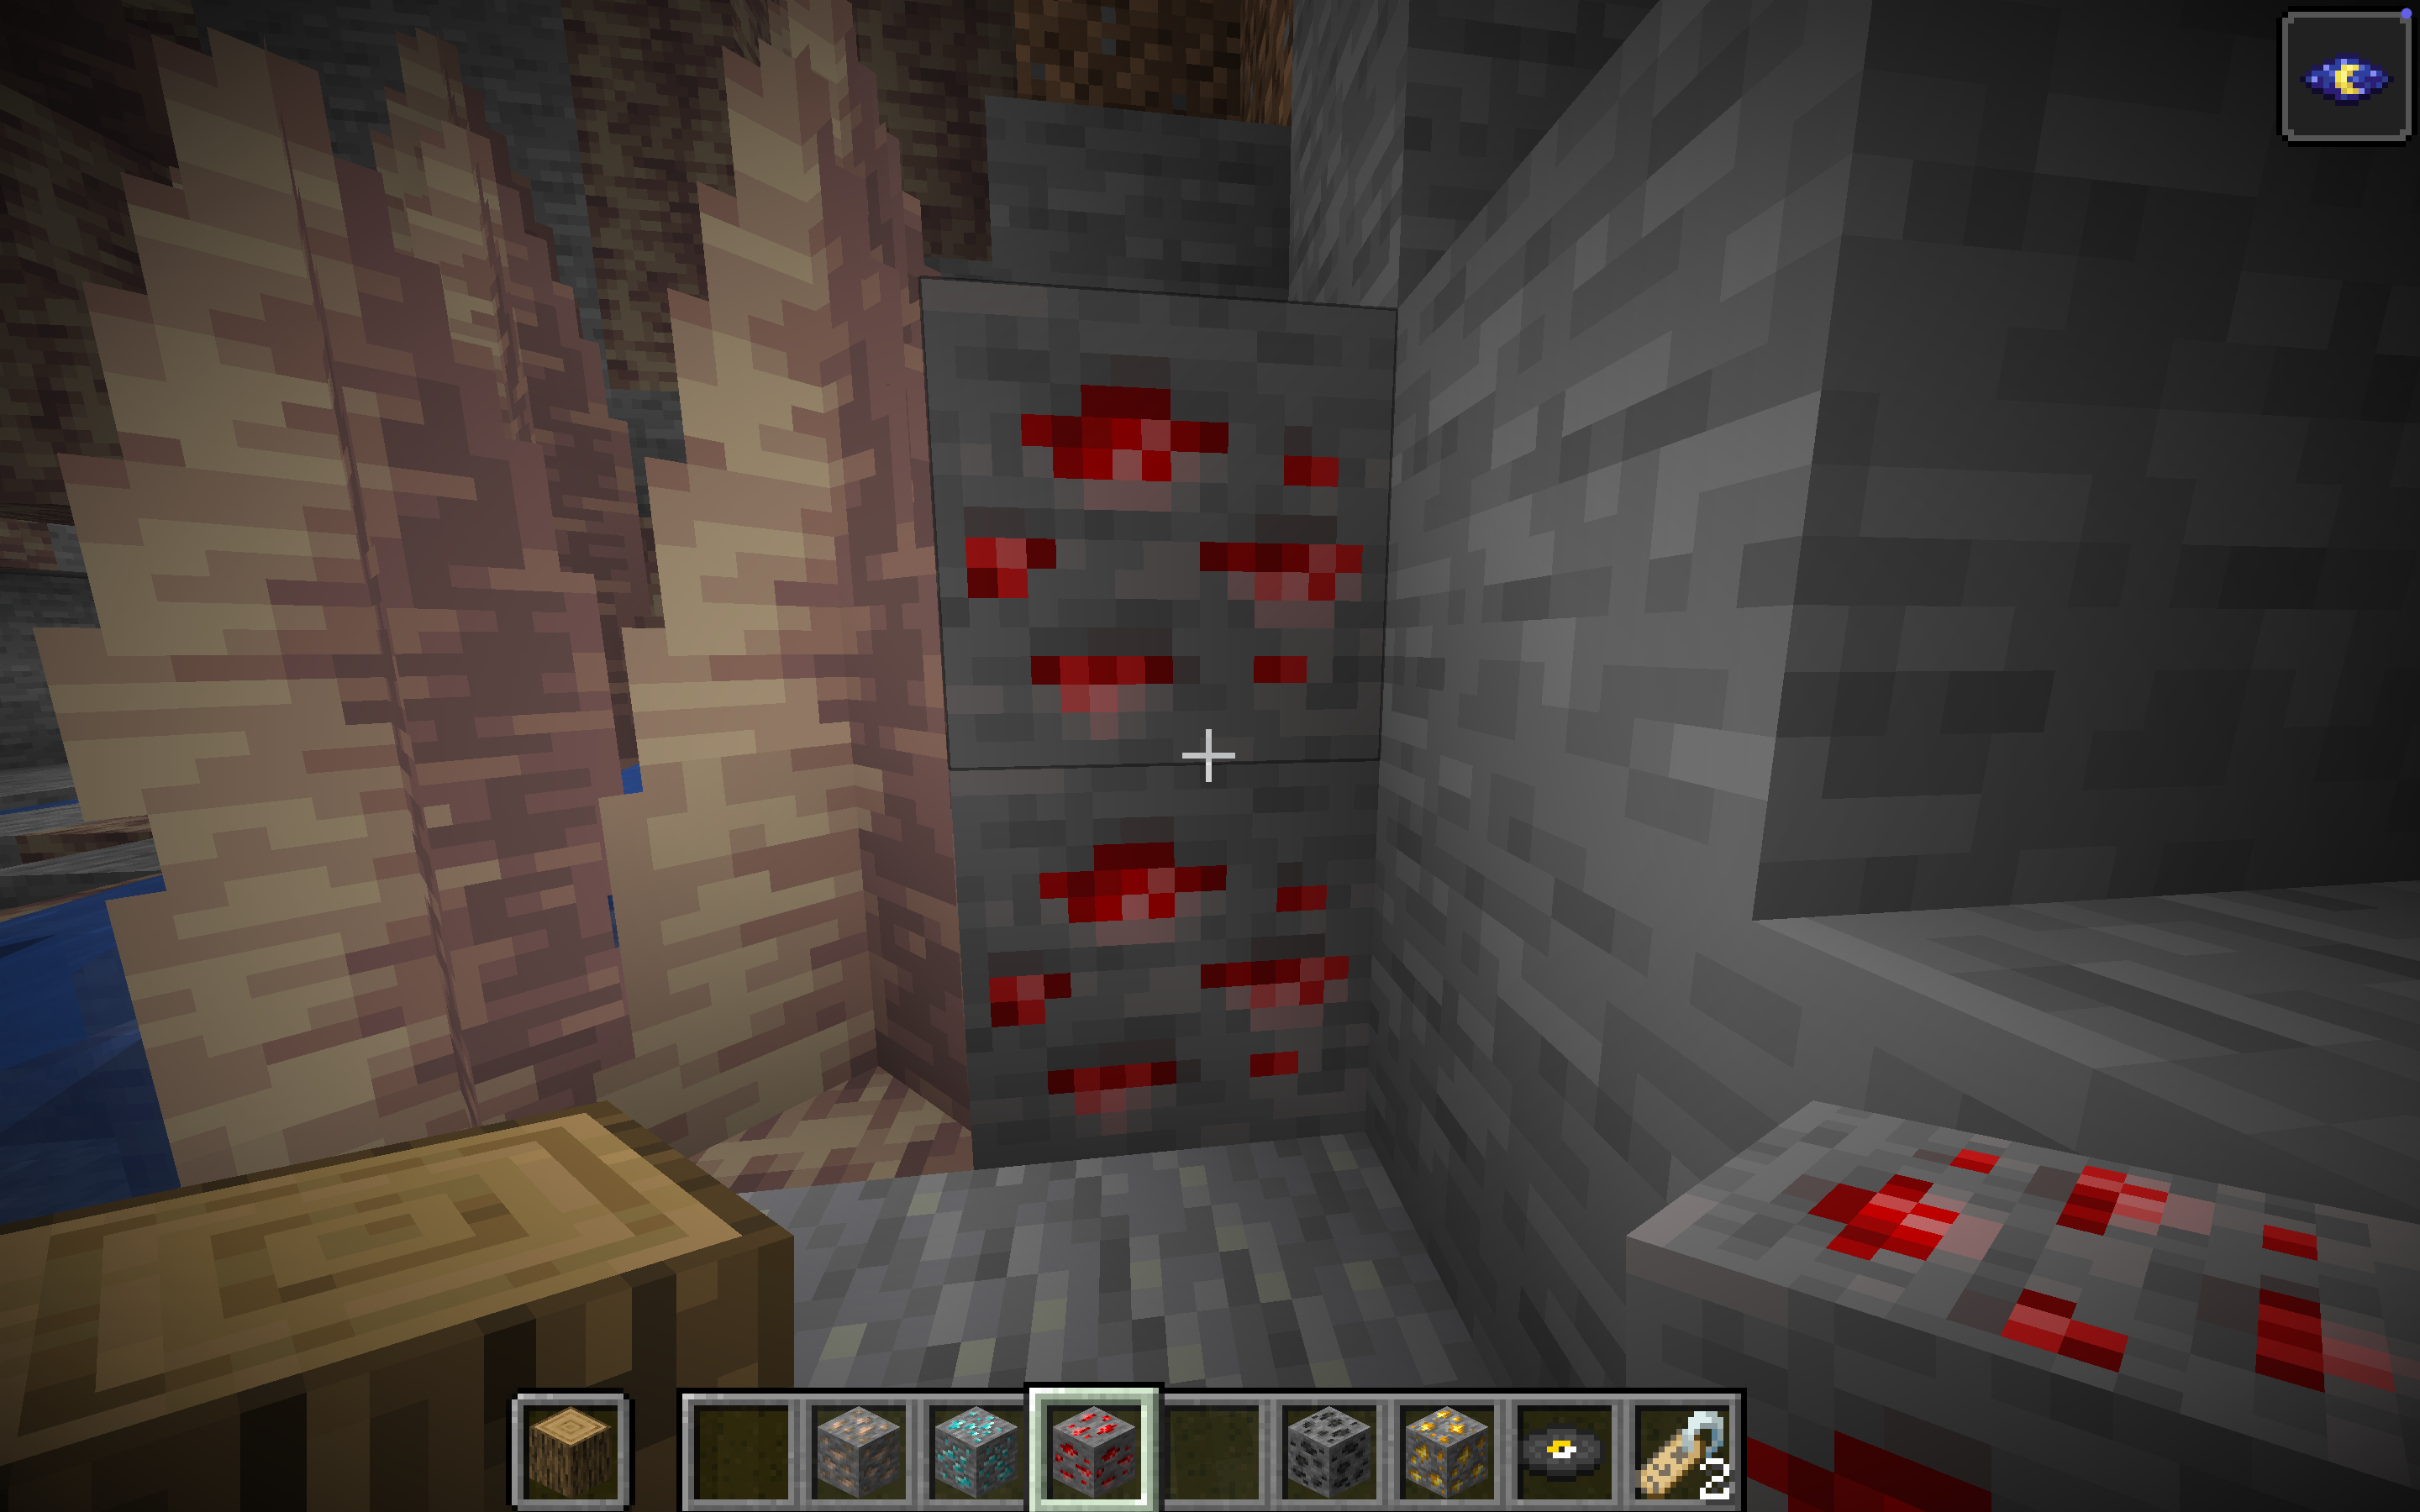redstone: (312, 70, 1801, 1097)
